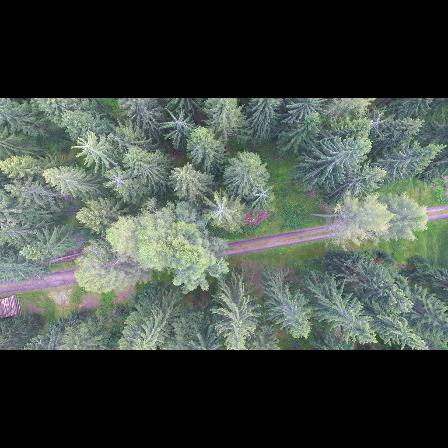Sick: (205, 193, 237, 226), (161, 109, 199, 136), (101, 167, 133, 197), (250, 180, 282, 209)
